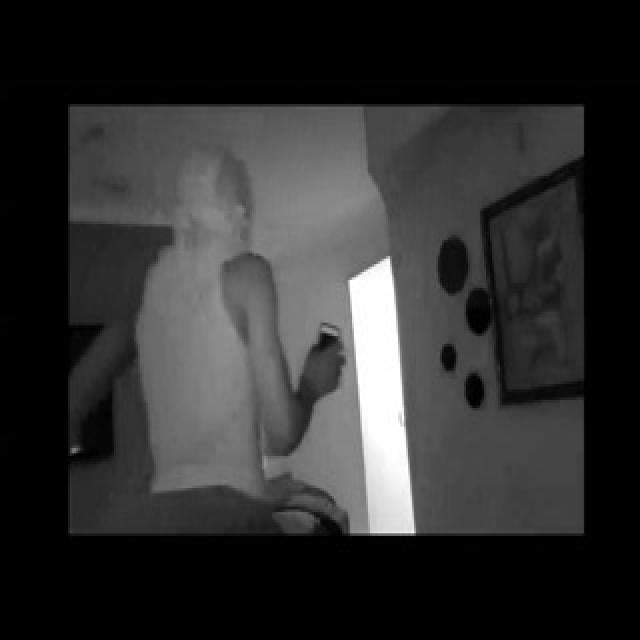thief: (144, 130, 268, 284)
